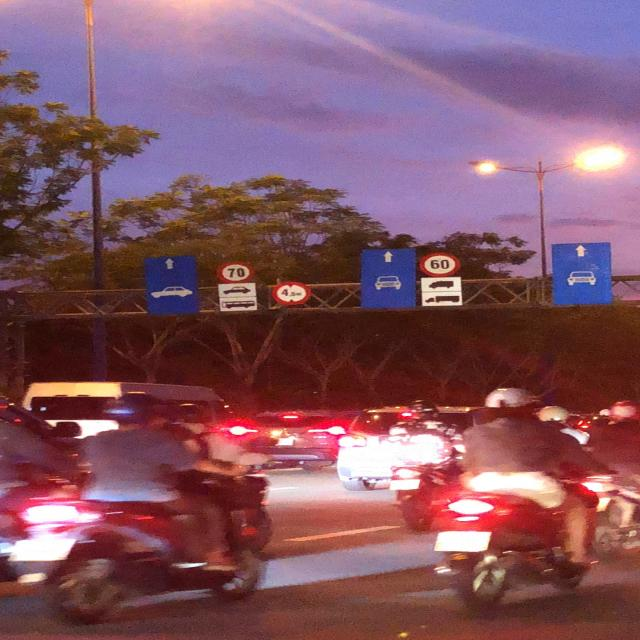Bien bao han che chieu cao: (270, 280, 315, 308)
Bien bao toc do toi da cho phep: (414, 250, 463, 278), (214, 260, 255, 284)
